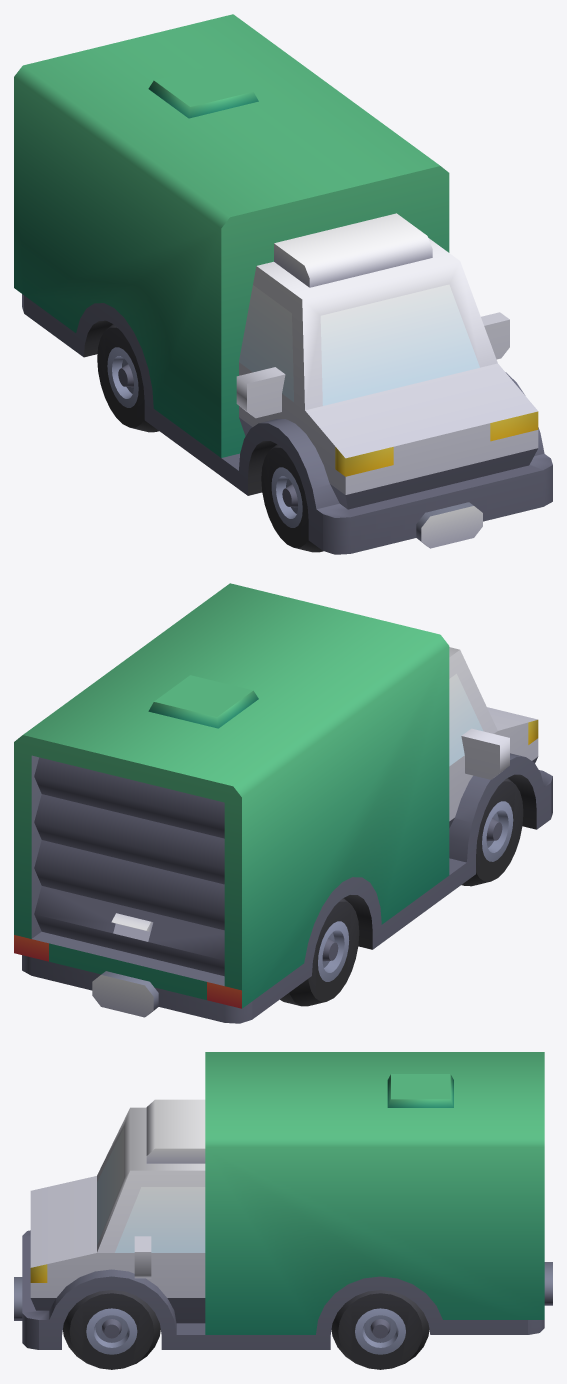
The model's file is car-delivery.obj.
The picture shows the model from 3 angles, top to bottom: view 1: azimuth 30°, elevation 25°; view 2: azimuth 150°, elevation 25°; view 3: azimuth 270°, elevation 25°; orthographic projection. The views are drawn at different scales.
Parts seen in each view (by area): view 1: body, wheel-front-right, wheel-back-right; view 2: body, door, wheel-back-right, wheel-front-right; view 3: body, wheel-back-left, wheel-front-left.
Part boxes in pixels (x1,y1,x2,y2): body: (14, 14, 552, 554); wheel-front-right: (261, 444, 323, 552); wheel-back-right: (97, 324, 158, 432); body: (14, 583, 552, 1023); door: (34, 757, 224, 976); wheel-back-right: (280, 898, 359, 1006); wheel-front-right: (461, 778, 523, 886); body: (14, 1052, 552, 1349); wheel-back-left: (331, 1290, 429, 1369); wheel-front-left: (63, 1290, 160, 1369).
Bounding box in the file's own units: 1.5 × 1.65 × 3.25.
